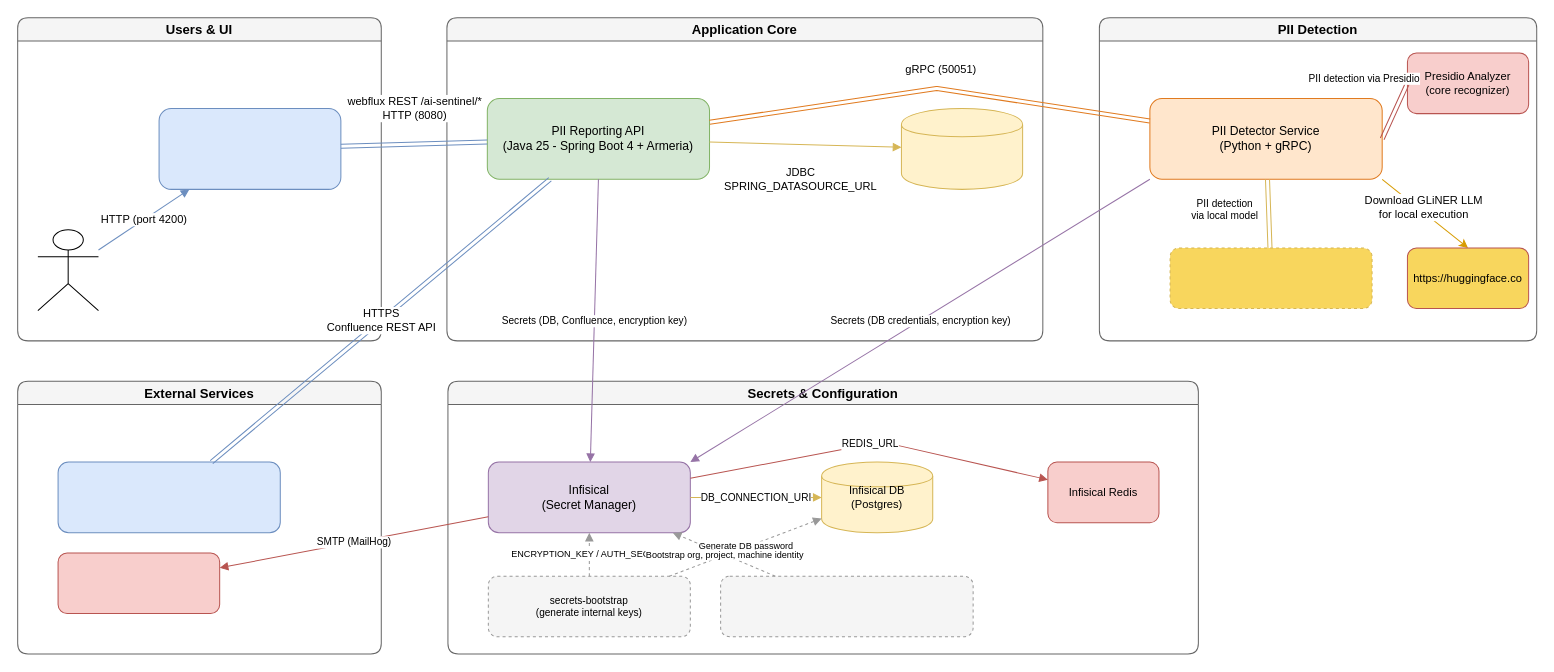
This 1554x672 diagram has some shape labels left out. The centre of each missing label's shape, as x and y in pixels:
"Confluence (Atlassian Cloud / DC)" goes at (x=168, y=497).
"End User" goes at (x=67, y=270).
"HuggingFace LLM GLiNER Model (Transformers, PII pipeline)" goes at (x=1270, y=278).
"infisical-configurator (bootstrap project & machine identity)" goes at (x=846, y=606).
"Mailhog (SMTP test)" goes at (x=138, y=583).
"PII Reporting UI (Angular 20 + Nginx)" goes at (x=249, y=148).
"Postgres (ai-sentinel DB)" goes at (x=961, y=148).
